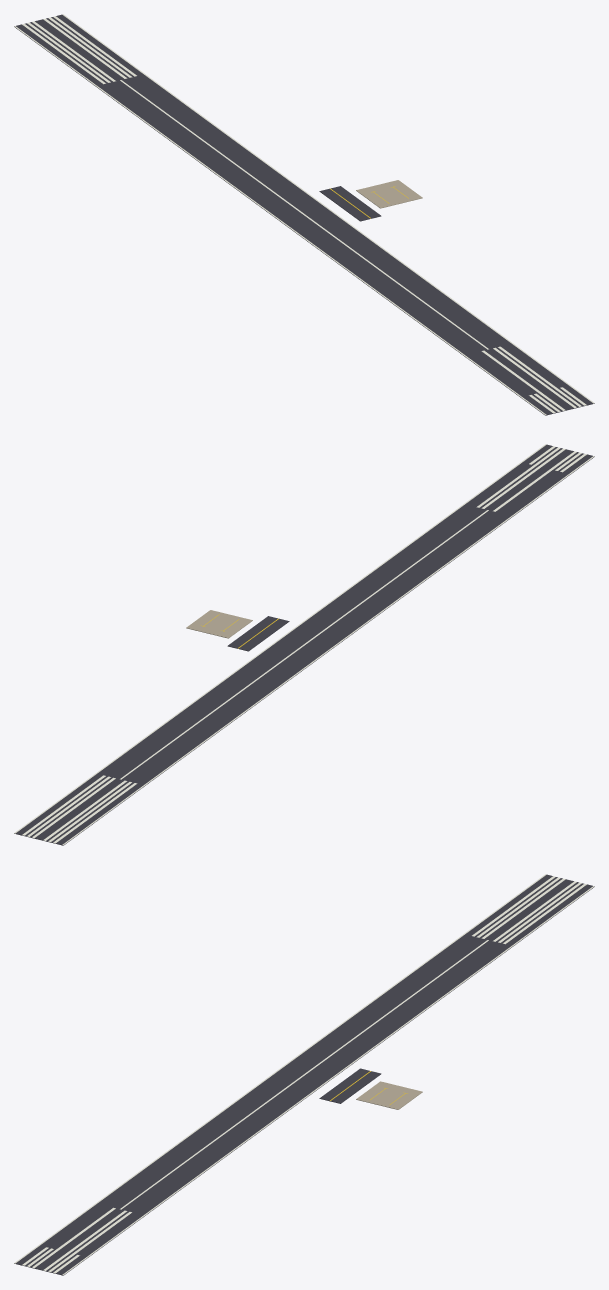
Rendered from Kit_Runway.glb.
3 views of the same model, one above another, from view 1: azimuth 30°, elevation 25°; view 2: azimuth 150°, elevation 25°; view 3: azimuth 330°, elevation 25° (orthographic).
Visible parts, largest first — view 1: Kit_Runway_Main, Kit_Runway_Apron, Kit_Runway_Taxiway; view 2: Kit_Runway_Main, Kit_Runway_Apron, Kit_Runway_Taxiway; view 3: Kit_Runway_Main, Kit_Runway_Apron, Kit_Runway_Taxiway.
Boxes of the visible parts, x1,y1,x2,y2 form: Kit_Runway_Main: [14, 14, 594, 415]; Kit_Runway_Apron: [356, 180, 422, 208]; Kit_Runway_Taxiway: [319, 186, 381, 221]; Kit_Runway_Main: [14, 444, 594, 845]; Kit_Runway_Apron: [186, 610, 252, 638]; Kit_Runway_Taxiway: [227, 616, 289, 651]; Kit_Runway_Main: [14, 874, 594, 1275]; Kit_Runway_Apron: [356, 1081, 422, 1109]; Kit_Runway_Taxiway: [319, 1068, 381, 1103].
Bounding box in the file's own units: 185 × 0.6 × 1300.
